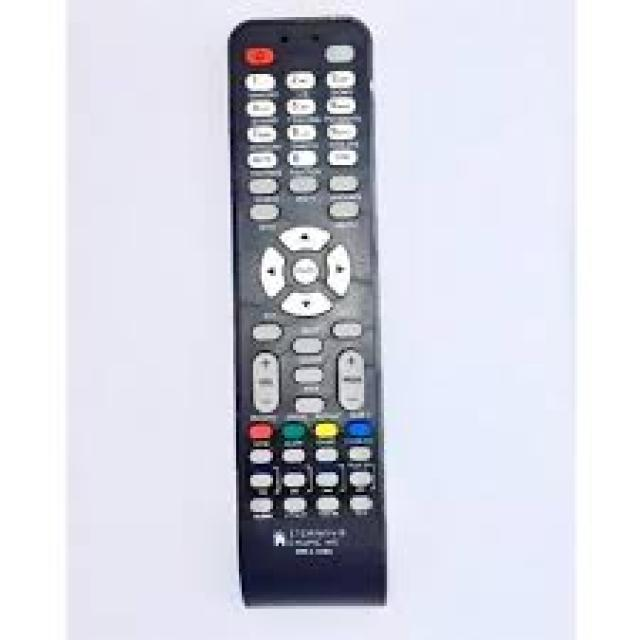remote: (233, 13, 385, 601)
